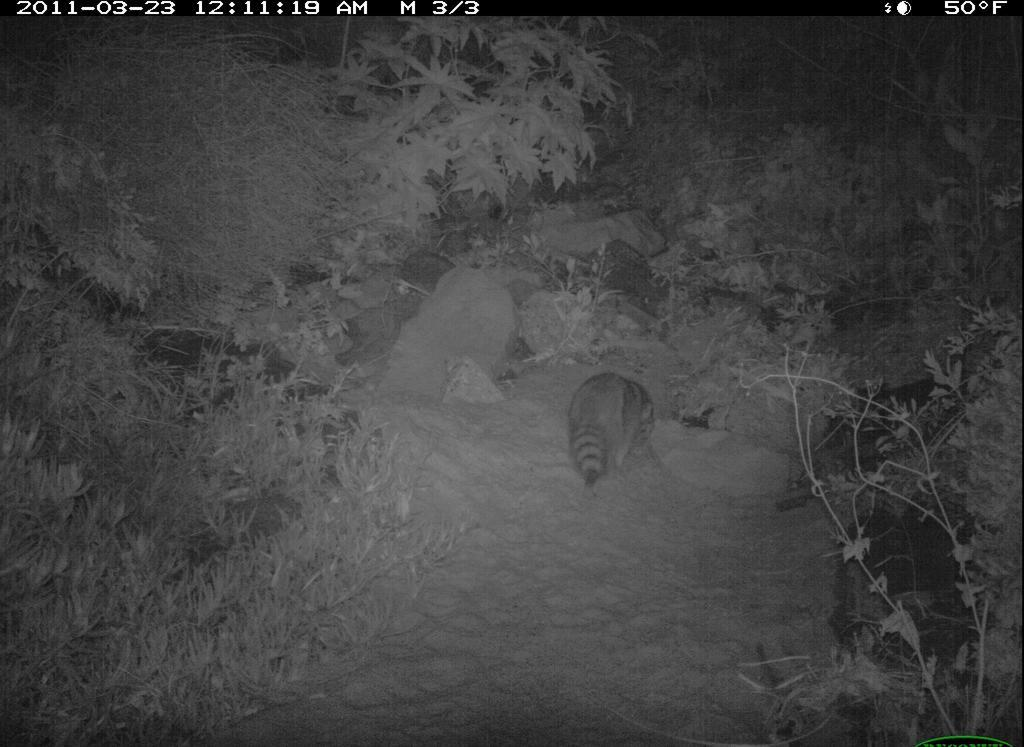raccoon: (561, 359, 667, 501)
